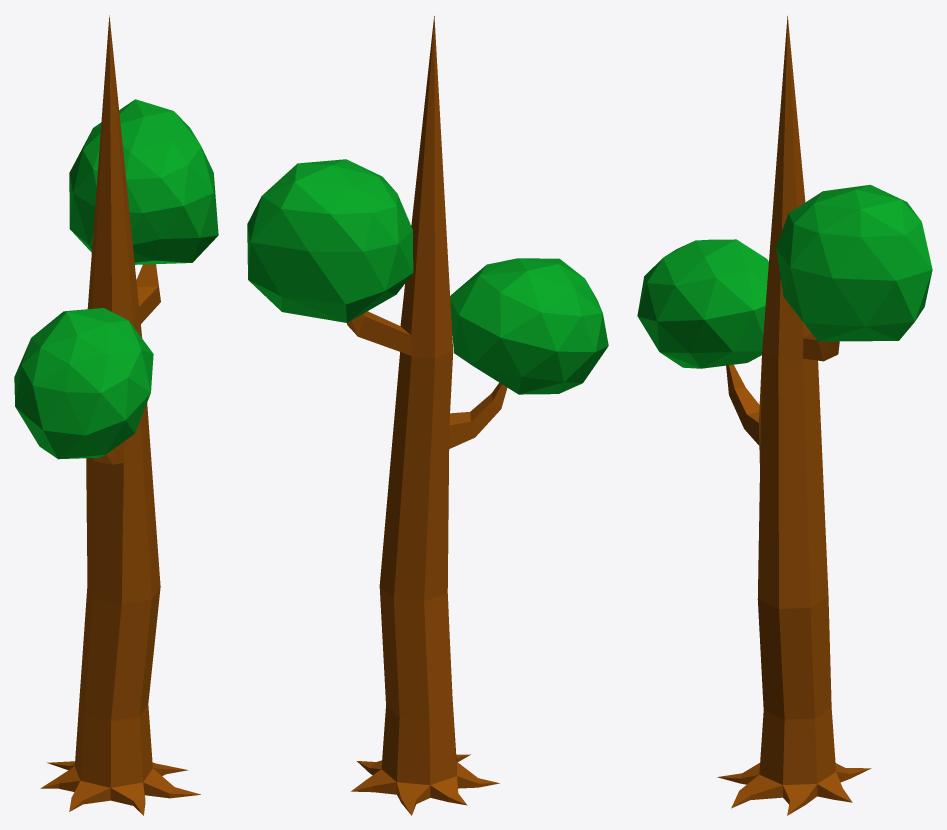
Rendered from treeb3.glb.
3 views of the same model, side by side, from view 1: azimuth 30°, elevation 25°; view 2: azimuth 150°, elevation 25°; view 3: azimuth 270°, elevation 25° (orthographic).
Visible parts, largest first — view 1: Cylinder, Icosphere.001, Icosphere.002; view 2: Cylinder, Icosphere.002, Icosphere.001; view 3: Cylinder, Icosphere.002, Icosphere.001.
Part boxes in pixels (bbox=[...]): Cylinder: bbox=[40, 15, 200, 815]; Icosphere.001: bbox=[14, 308, 153, 459]; Icosphere.002: bbox=[69, 99, 218, 264]; Cylinder: bbox=[347, 16, 507, 815]; Icosphere.002: bbox=[247, 159, 413, 322]; Icosphere.001: bbox=[450, 258, 608, 394]; Cylinder: bbox=[717, 16, 871, 815]; Icosphere.002: bbox=[776, 184, 932, 341]; Icosphere.001: bbox=[637, 239, 768, 368].
Bounding box in the file's own units: 3.01 × 8.47 × 2.97.
